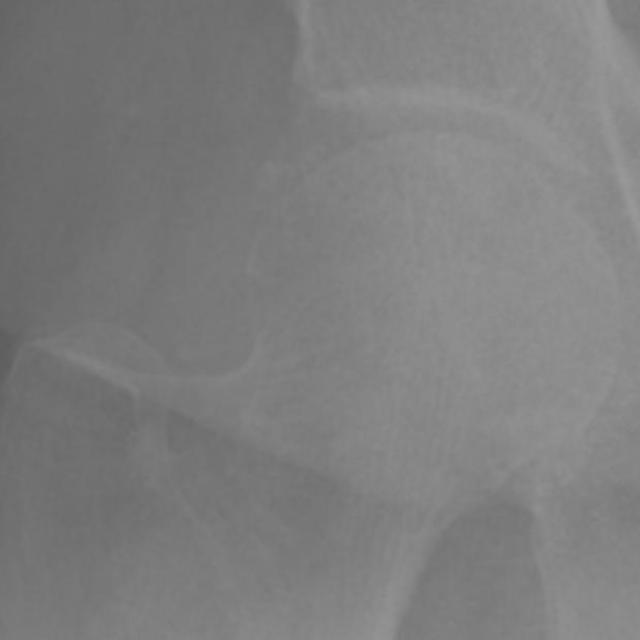Fitted_femural_head: (373, 132, 432, 373)
